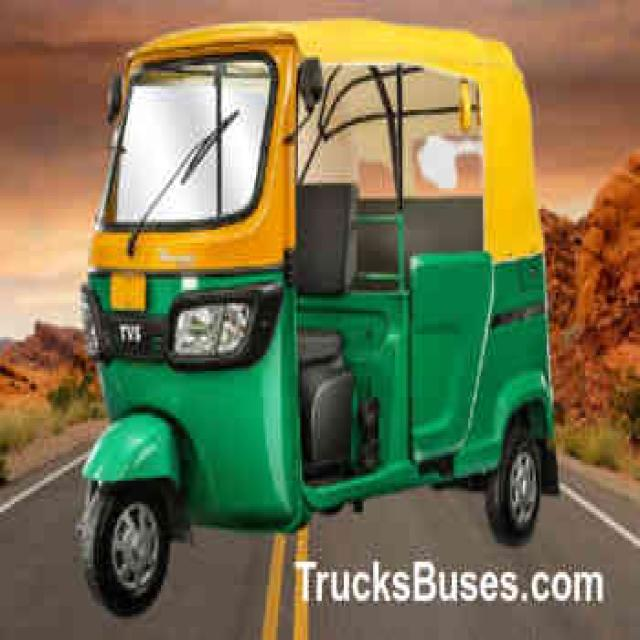autorickshaw: (84, 21, 557, 610)
